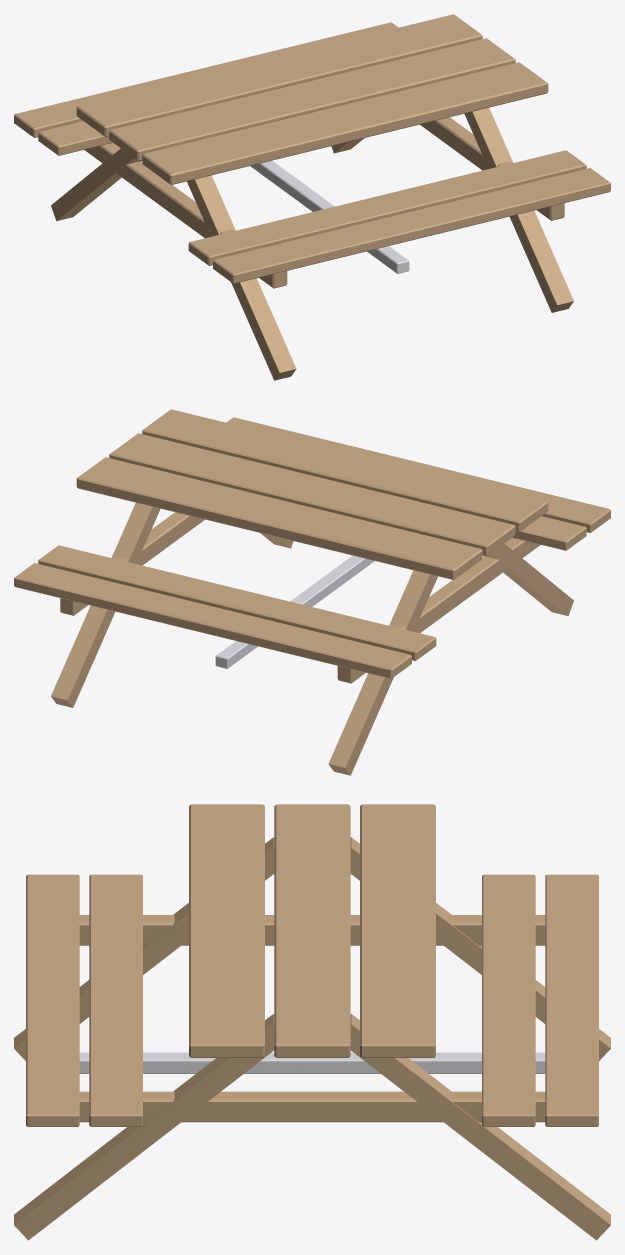
File: motorway-services-and-truck-park-picnic-bench-06fe40d0__35964.glb
3 views of the same model, one above another, from view 1: azimuth 30°, elevation 25°; view 2: azimuth 150°, elevation 25°; view 3: azimuth 270°, elevation 25° (orthographic). The views are drawn at different scales.
Parts seen in each view (by area): view 1: picnic-bench; view 2: picnic-bench; view 3: picnic-bench.
Part boxes in pixels (<box>): picnic-bench: <box>14,14,610,380</box>; picnic-bench: <box>14,409,610,775</box>; picnic-bench: <box>14,804,610,1240</box>.
Bounding box in the file's own units: 1.8 × 0.7766 × 1.89.
